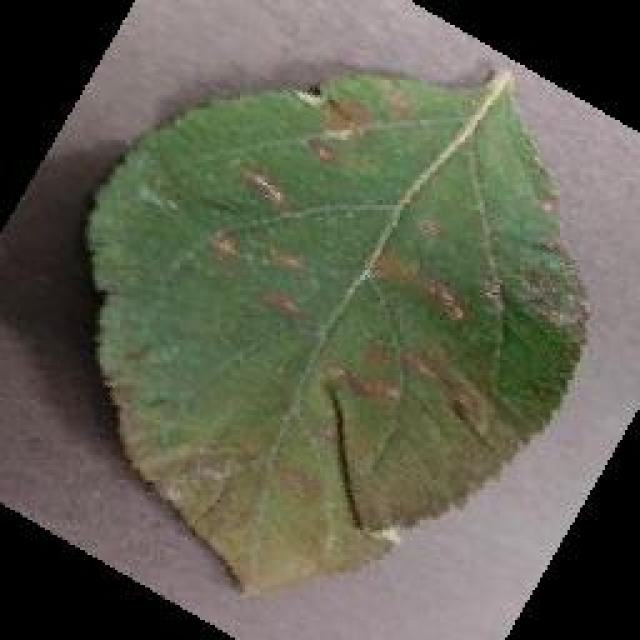apple scab disease: (80, 62, 592, 598)
